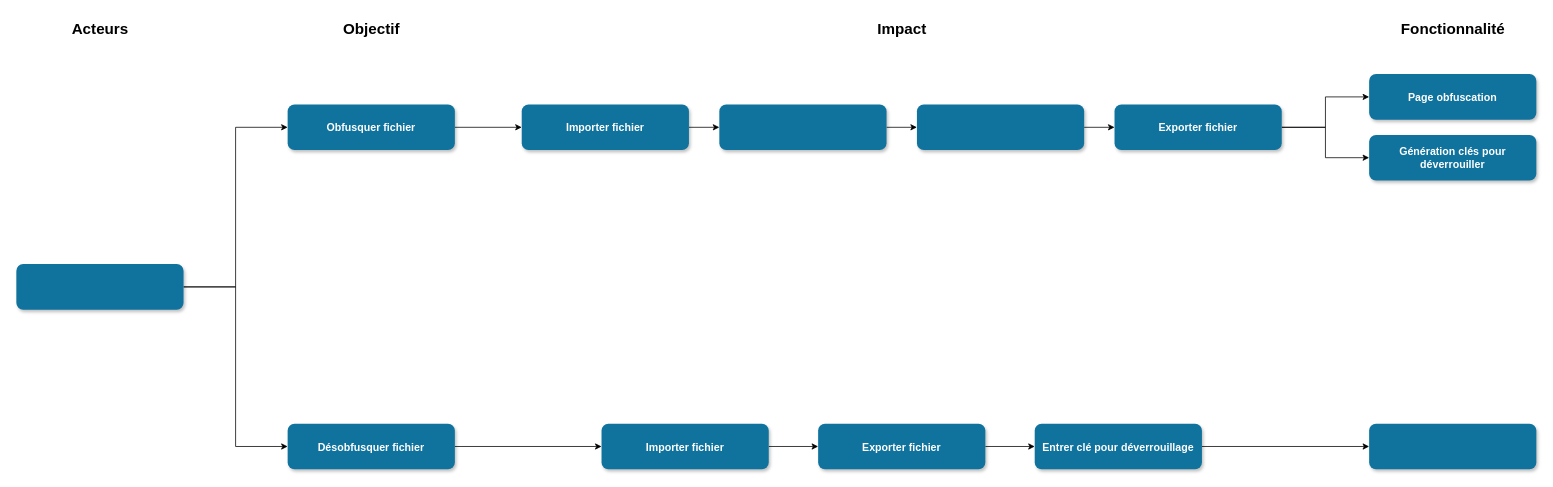
Some shapes in this 1553 by 487 pixel diagram are drawn without their labels. The shapes that lost their labels are listed below. From the top down, each one's centre as x and y in pixels, then its label:
At pixel 803 128: "Choix texte à cacher".
At pixel 1001 128: "Choix rôle pour qui le texte est caché".
At pixel 100 288: "Utilisateur".
At pixel 1453 447: "Page Désobfuscation".
